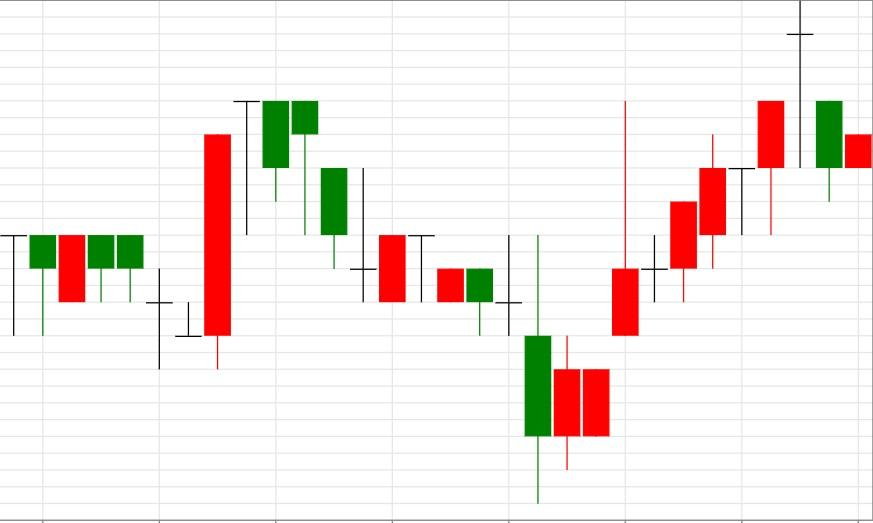hanging_man_fall: (174, 100, 319, 370)
